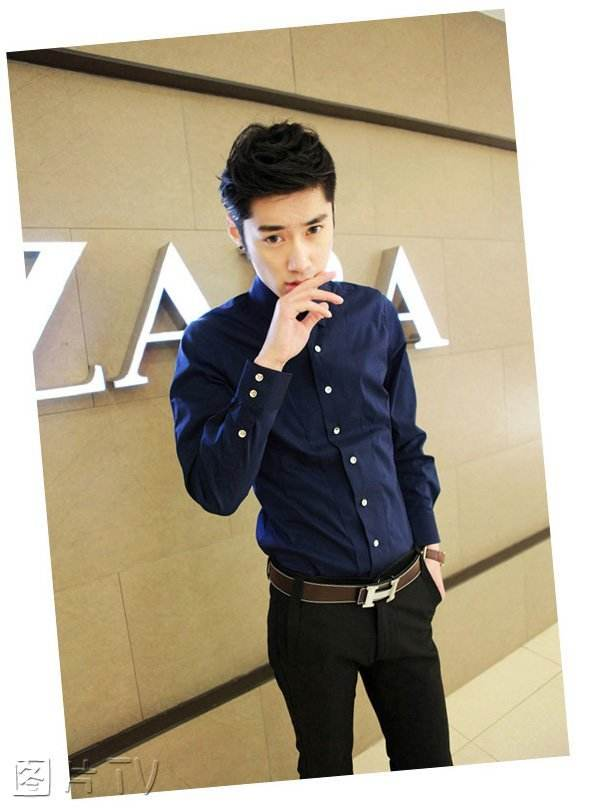person: (127, 96, 482, 808)
